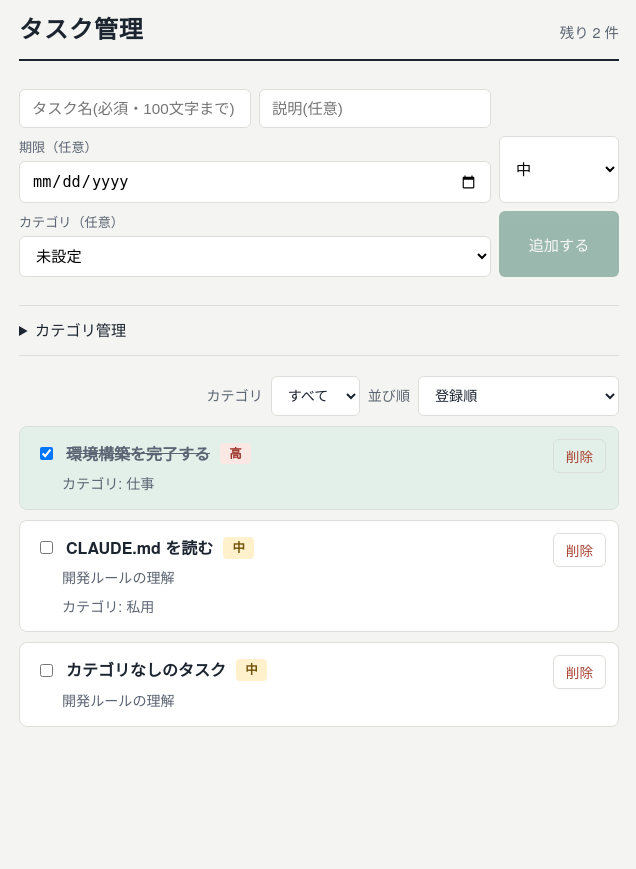
it: App › 使用中カテゴリを削除するとタスクを残しフォームとフィルタを解除する
Check: the text "環境構築を完了する" is shown, box [66, 441, 210, 466]
Select "仕事" in the dropdown labelled "カテゴリ（任意）" at (255, 257), box [19, 236, 491, 277]
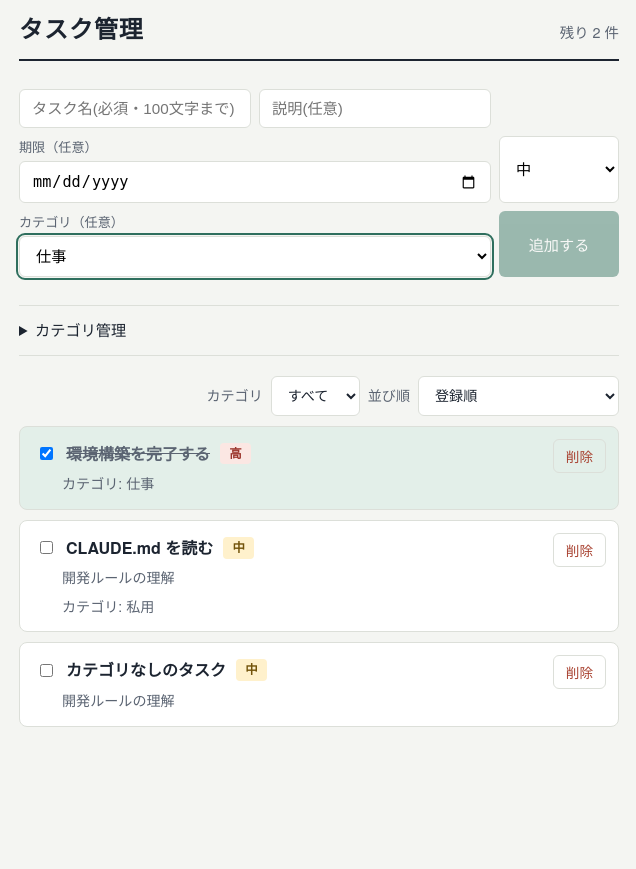
Select "仕事" in the dropdown named "カテゴリで絞り込み" at (315, 396), box [271, 376, 360, 416]
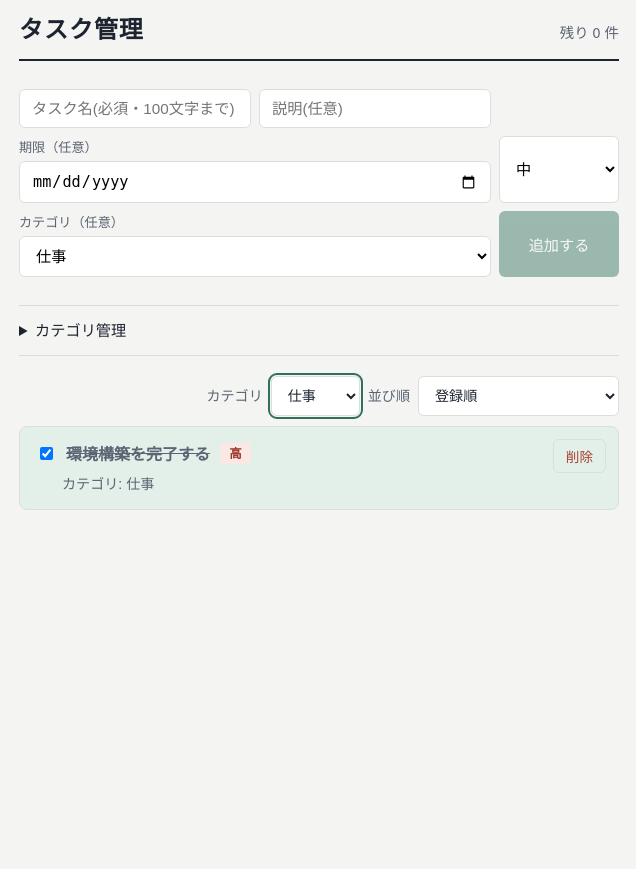
Check: the text "カテゴリ: 仕事" is shown, box [62, 473, 154, 493]
Click the heading "カテゴリ管理".
click(81, 330)  # box [35, 319, 126, 340]
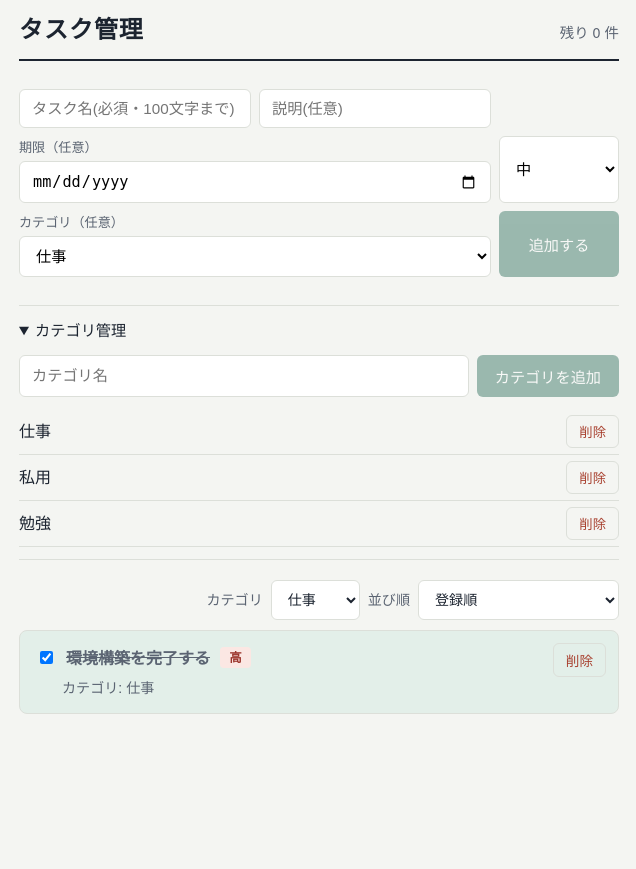
Click the button with aria-label "仕事を削除".
click(593, 431)  # box [566, 415, 619, 448]
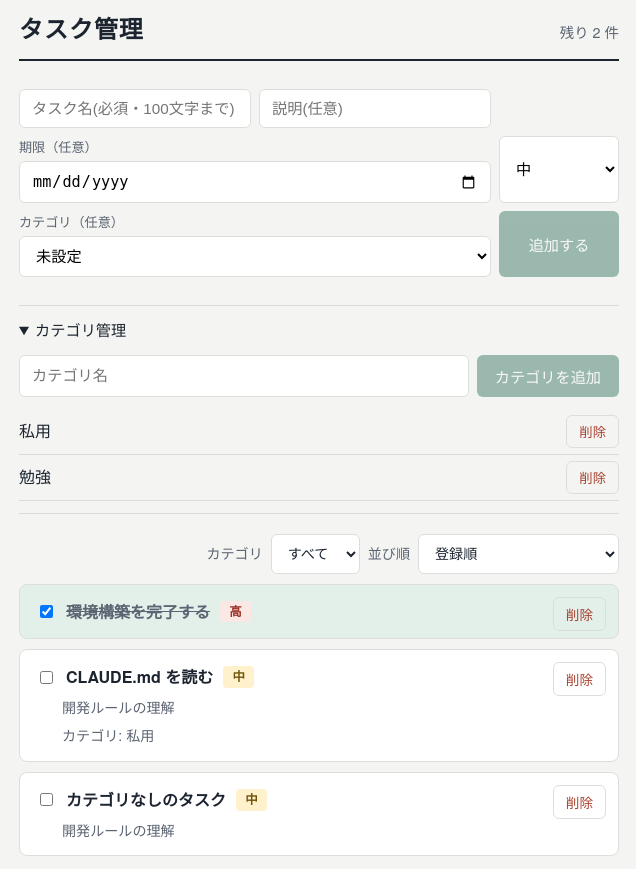
Check: the text "カテゴリなしのタスク" is shown, box [66, 787, 226, 812]
Check: the text "カテゴリ: 仕事" is gone
Check: the text "カテゴリ: 私用" is shown, box [62, 725, 154, 745]
